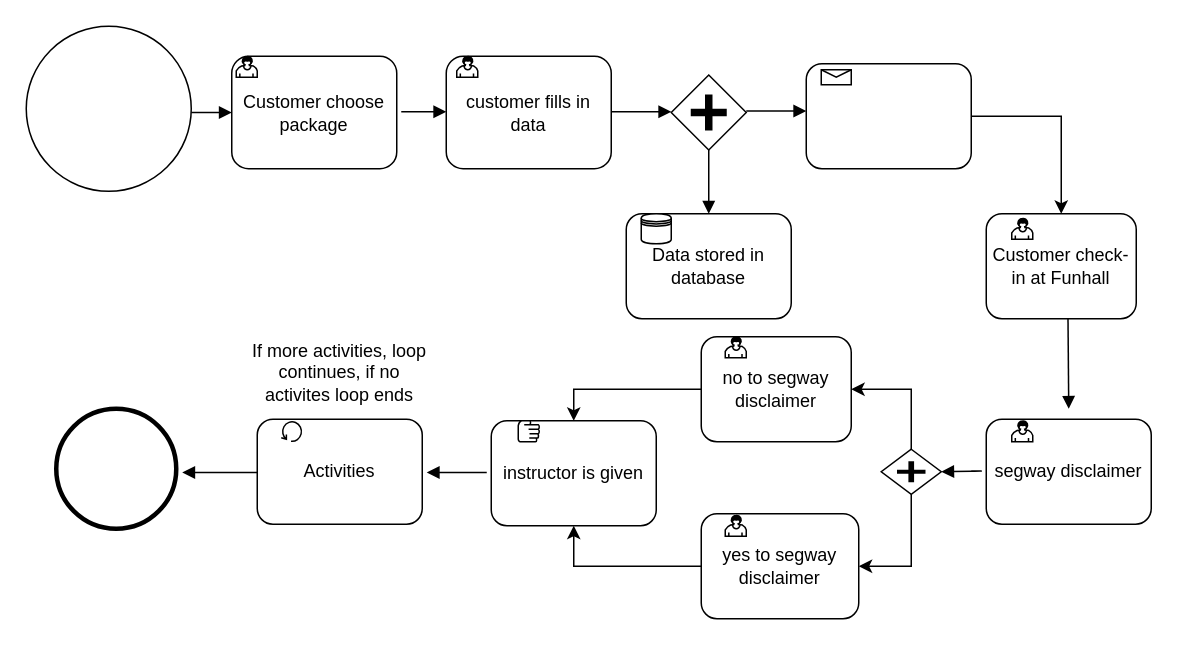
Some shapes in this 1178 by 645 pixel diagram are drawn without their labels. Each missing label, with the centre of its shape:
Customer visit website or call funhall: (x=108, y=108)
end of day: (x=115, y=468)
Order confirmation send to customer: (x=888, y=115)
